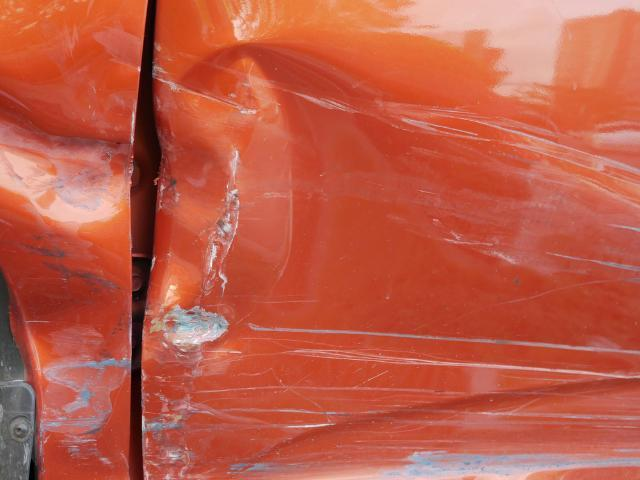dent: (154, 44, 389, 357), (0, 80, 131, 231), (16, 280, 129, 435)
dislocated part: (124, 3, 169, 480)
rub: (371, 446, 640, 480), (224, 457, 287, 480)
scratch: (141, 313, 640, 480), (364, 95, 640, 313), (36, 426, 123, 474), (13, 227, 85, 283)
